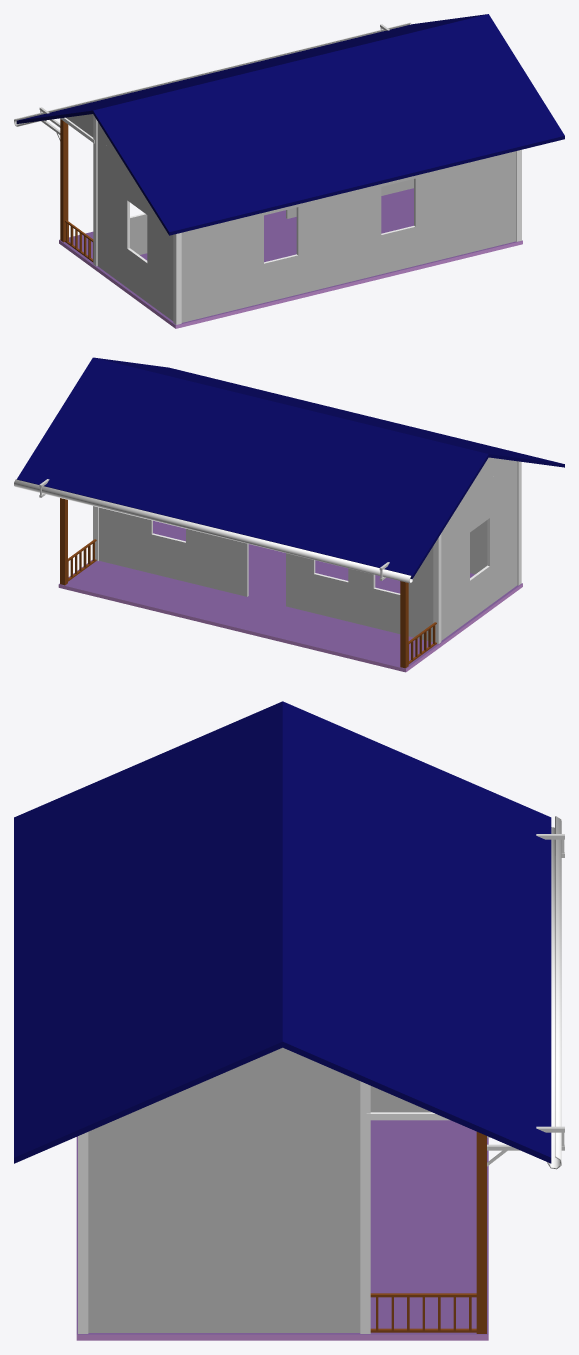
The model's file is Casa C1-13.fbx.
3 renders of one model, top to bottom at view 1: azimuth 30°, elevation 25°; view 2: azimuth 150°, elevation 25°; view 3: azimuth 270°, elevation 25°, orthographic. The views are drawn at different scales.
Visible parts, largest first — view 1: Cubo.001; view 2: Cubo.001; view 3: Cubo.001.
Part boxes in pixels (left/top/right/bottom): Cubo.001: left=14, top=14, right=564, bottom=328; Cubo.001: left=14, top=357, right=564, bottom=672; Cubo.001: left=14, top=701, right=564, bottom=1340.
Bounding box in the file's own units: 1552 × 680 × 1062.
